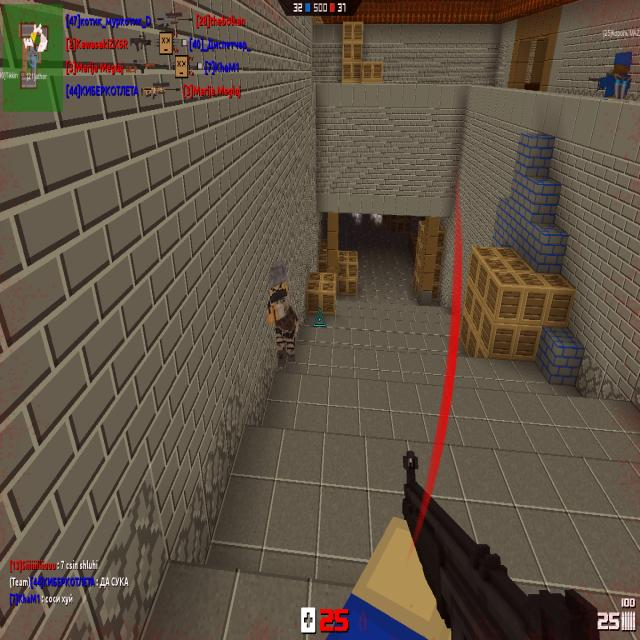enemy: (266, 260, 297, 368)
